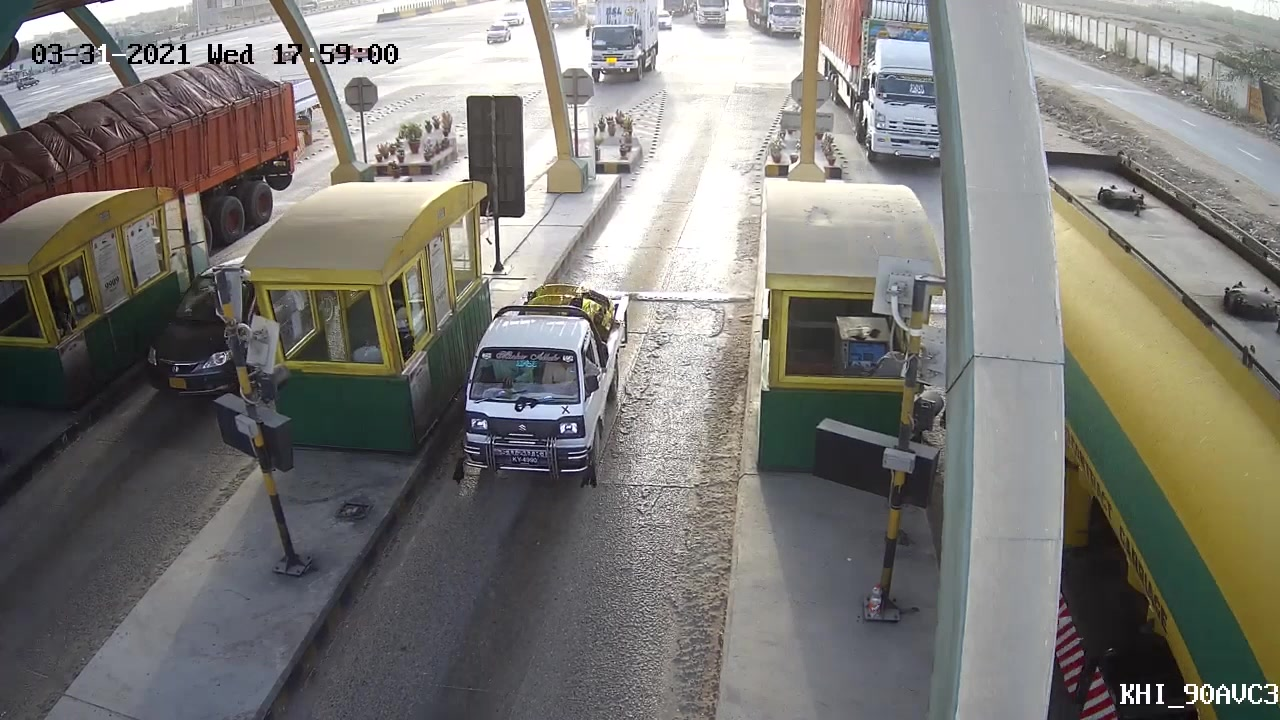F2: (449, 286, 635, 493)
